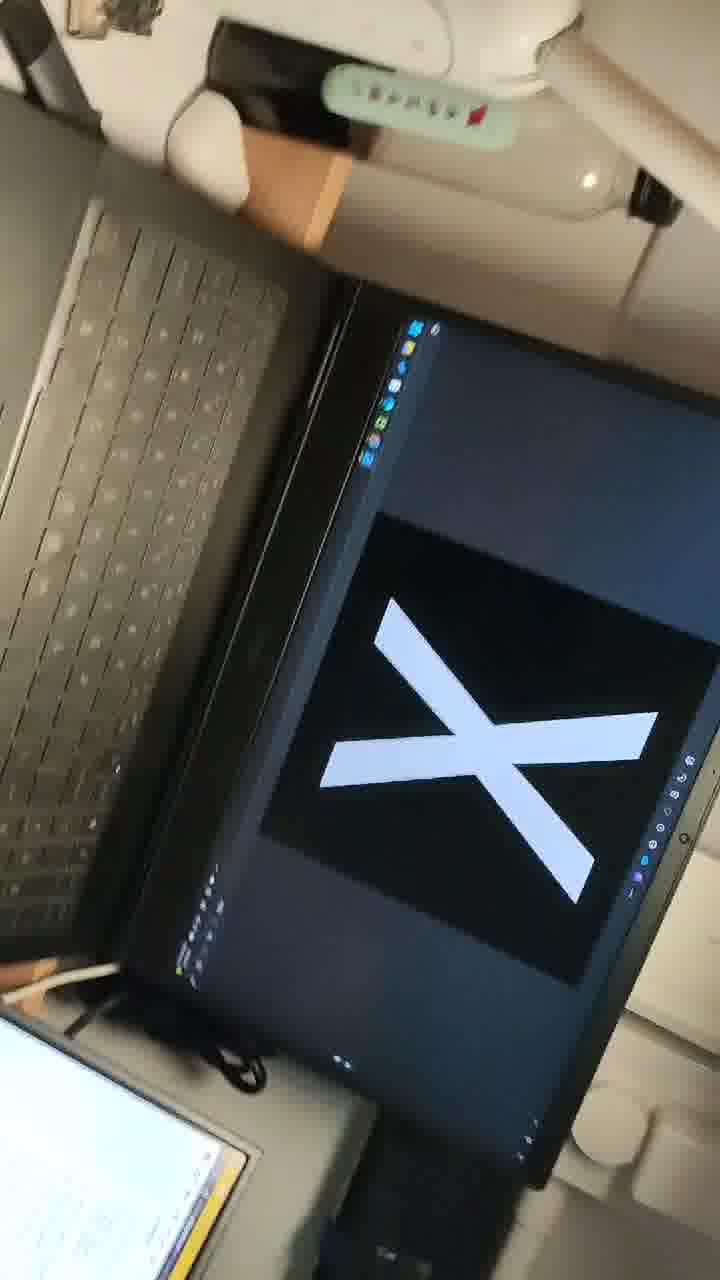X: (320, 557, 720, 976)
